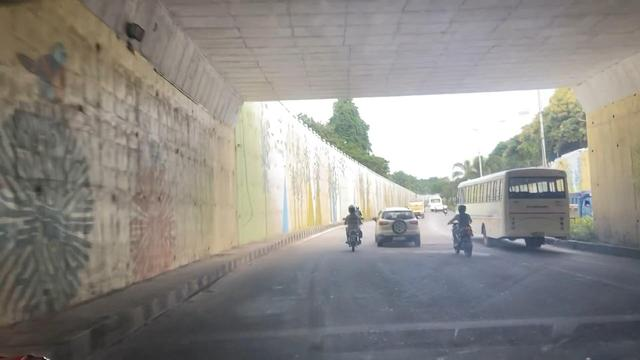HMV: (459, 172, 568, 241)
LMV: (375, 207, 420, 246), (452, 201, 475, 253), (345, 207, 365, 250)
